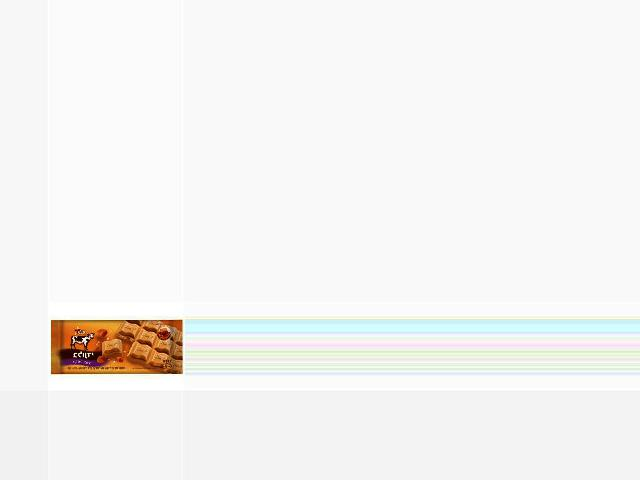chocolate: (46, 320, 182, 378)
